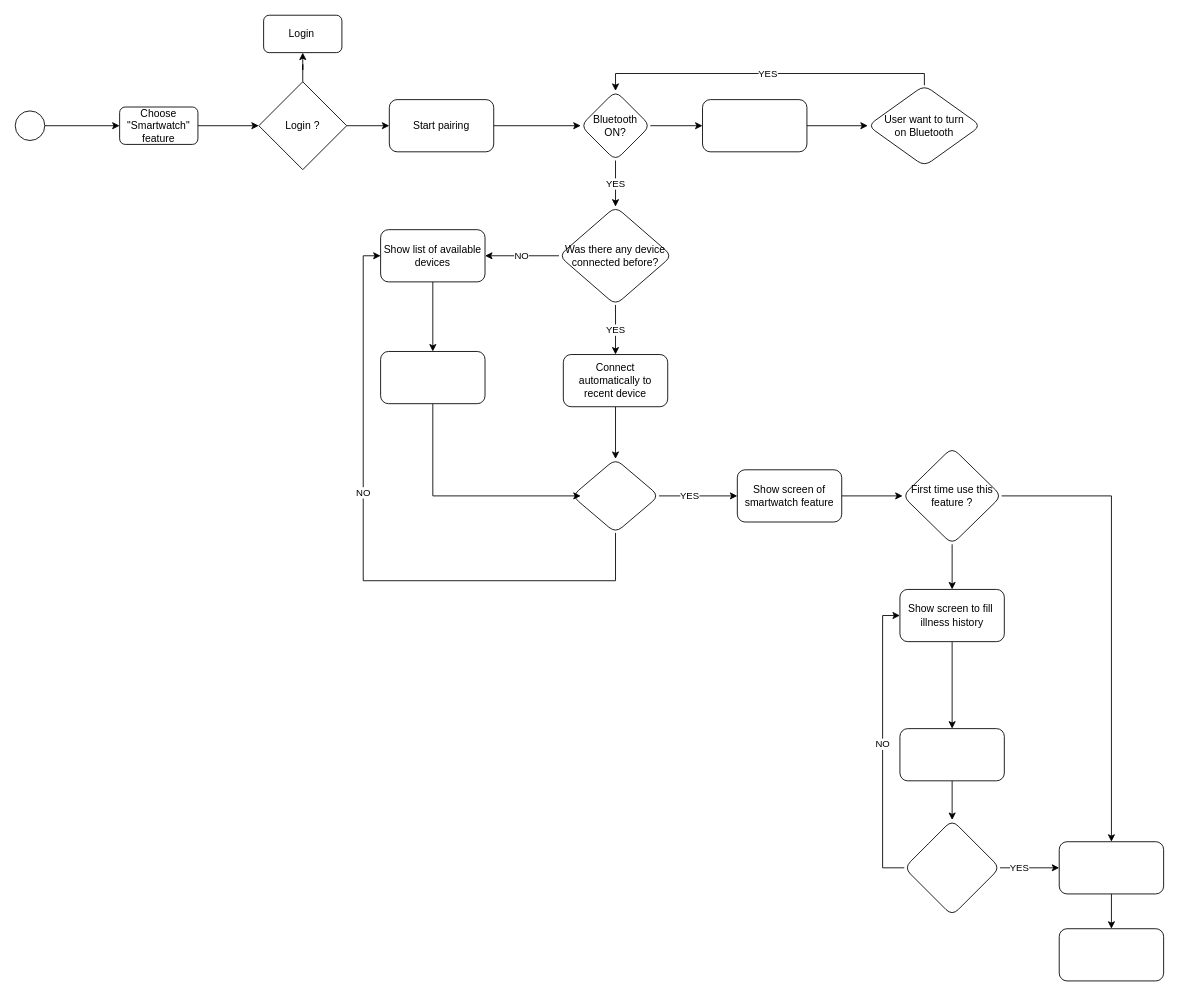
The diagram is 1179 pixels wide and 996 high, and some of its shapes have lost their labels. Each missing label, with the box of its shape:
Choose device you want to connnect: (380, 351, 485, 404)
Connect succesful: (571, 458, 659, 533)
Fill illness history: (899, 728, 1004, 781)
Save illness history ?: (903, 819, 1000, 916)
Show current heath status: (1058, 841, 1164, 894)
Show message to turn on Bluetooth: (702, 99, 807, 152)
